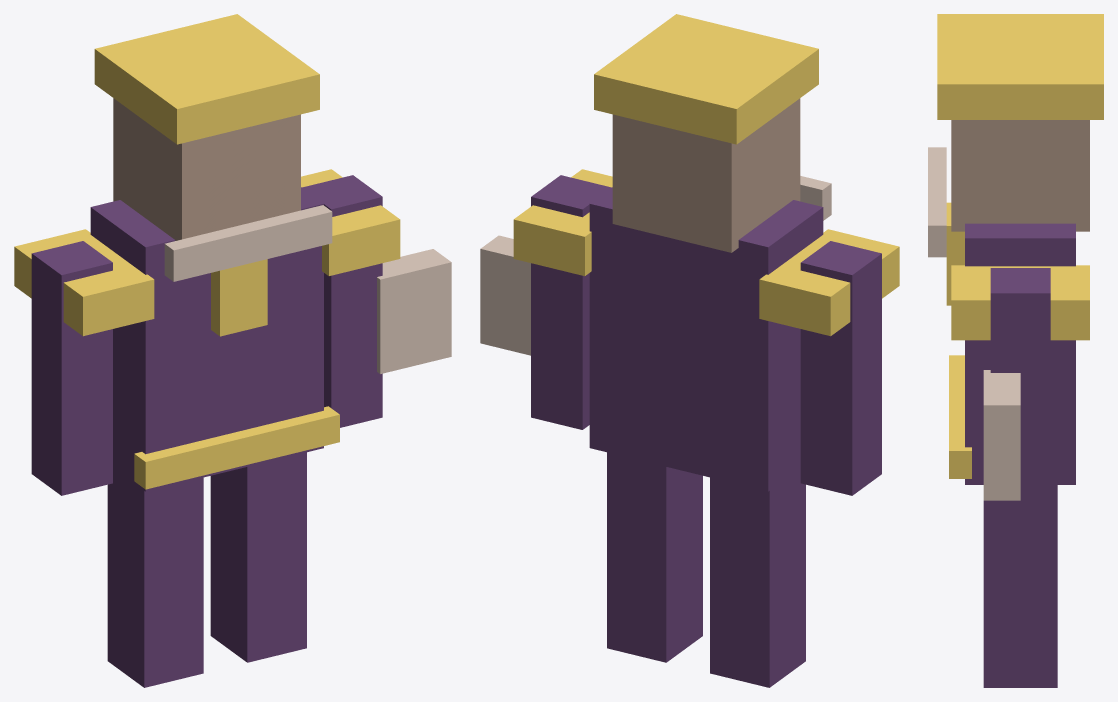
Rendered from 02_varren_gravesong_smith_of_loot.glb.
3 renders of one model, left to right at view 1: azimuth 30°, elevation 25°; view 2: azimuth 150°, elevation 25°; view 3: azimuth 270°, elevation 25°, orthographic.
Parts seen in each view (by area): view 1: Varren Gravesong, Smith of Loot; view 2: Varren Gravesong, Smith of Loot; view 3: Varren Gravesong, Smith of Loot.
Part boxes in pixels (<box>): Varren Gravesong, Smith of Loot: <box>14,14,451,687</box>; Varren Gravesong, Smith of Loot: <box>480,14,899,687</box>; Varren Gravesong, Smith of Loot: <box>928,14,1103,687</box>.
Size of the model in its own units: 1.05 by 1.53 by 0.4073.
